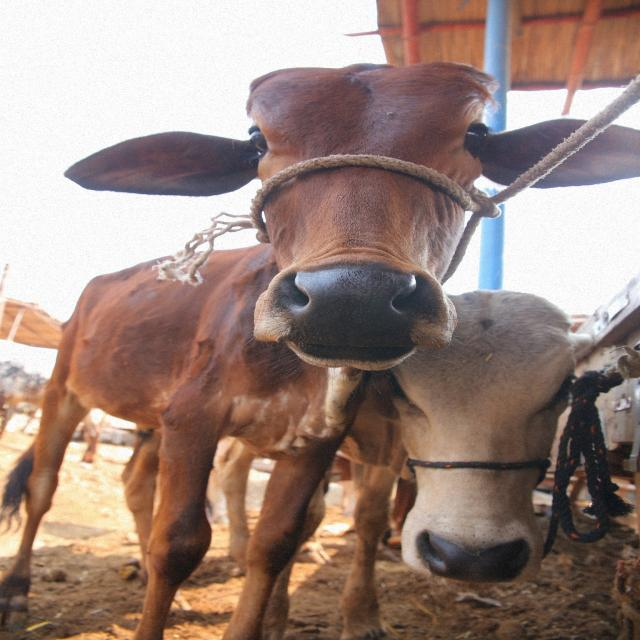muzzles: (272, 262, 435, 356), (411, 527, 535, 588)
